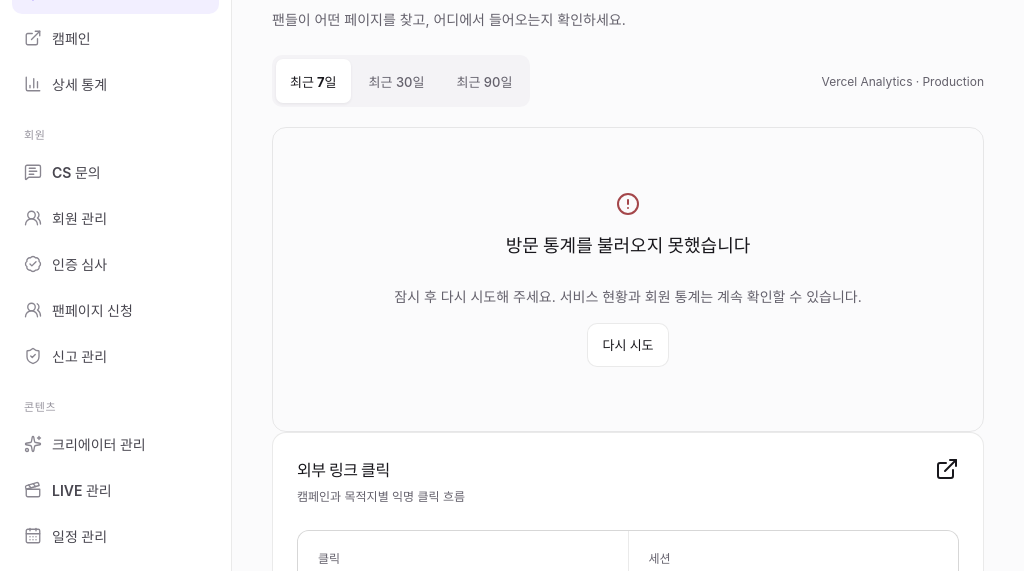
Test: WebAnalyticsDashboard › shows an error instead of fabricated zeros and recovers on retry
expect the message "방문 통계를 불러오지 못했습니다 잠시 후 다시 시도해 주세요. 서비스 현황과 회원 통계는 계속 확인할 수 있습니다. 다시 시도" is shown: met, box top-left (272, 127), bottom-right (984, 432)
expect the picture "방문자" is not shown: met
Click the button "다시 시도": (628, 345) top-left (587, 323), bottom-right (668, 367)
(page scrolled)
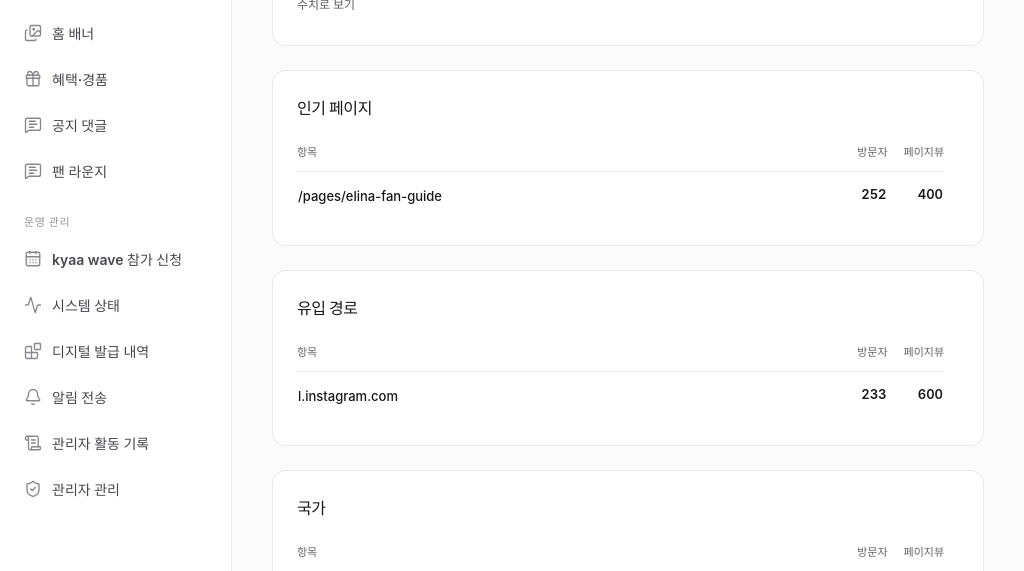
expect the column heading "/pages/elina-fan-guide" is shown: met, box top-left (297, 172), bottom-right (841, 221)
